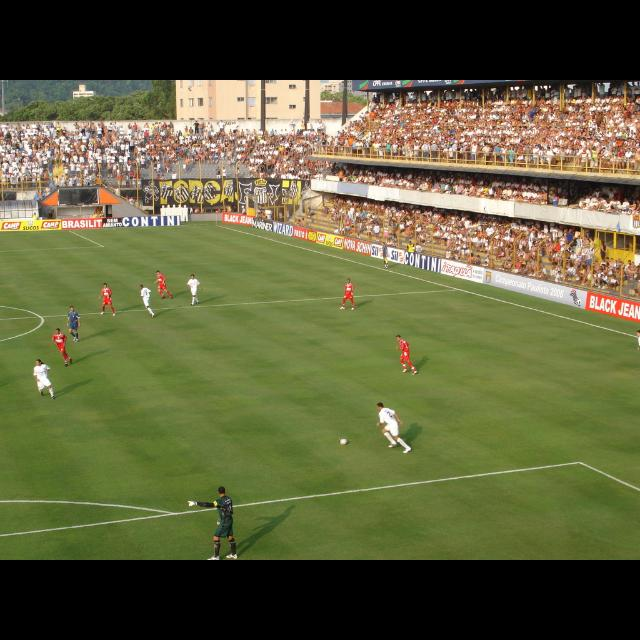Football: (339, 438, 345, 444)
